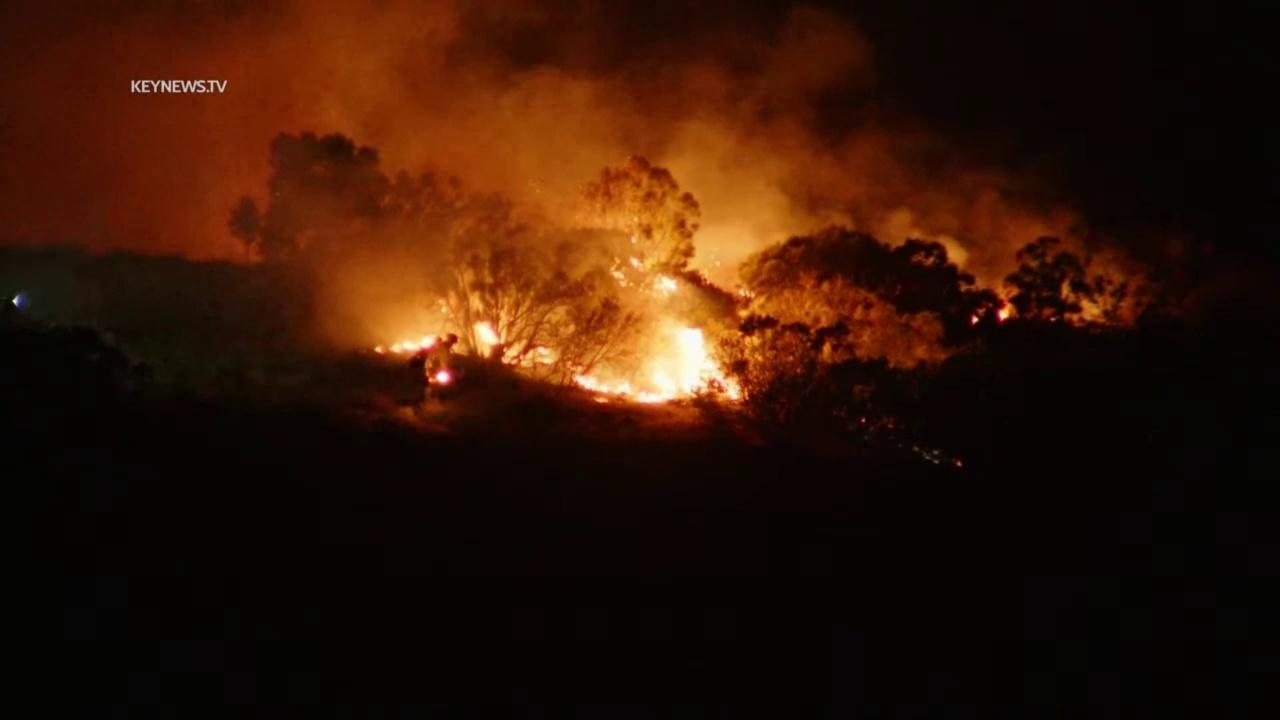fire: (637, 326, 745, 404), (373, 333, 439, 355), (570, 374, 633, 397), (472, 319, 501, 347), (651, 272, 682, 295), (609, 254, 628, 288), (996, 302, 1012, 324), (434, 369, 454, 386), (737, 286, 758, 299), (628, 256, 641, 271), (969, 313, 980, 325)
smoke: (0, 0, 1159, 415)
